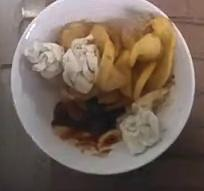fries: (55, 16, 176, 104)
